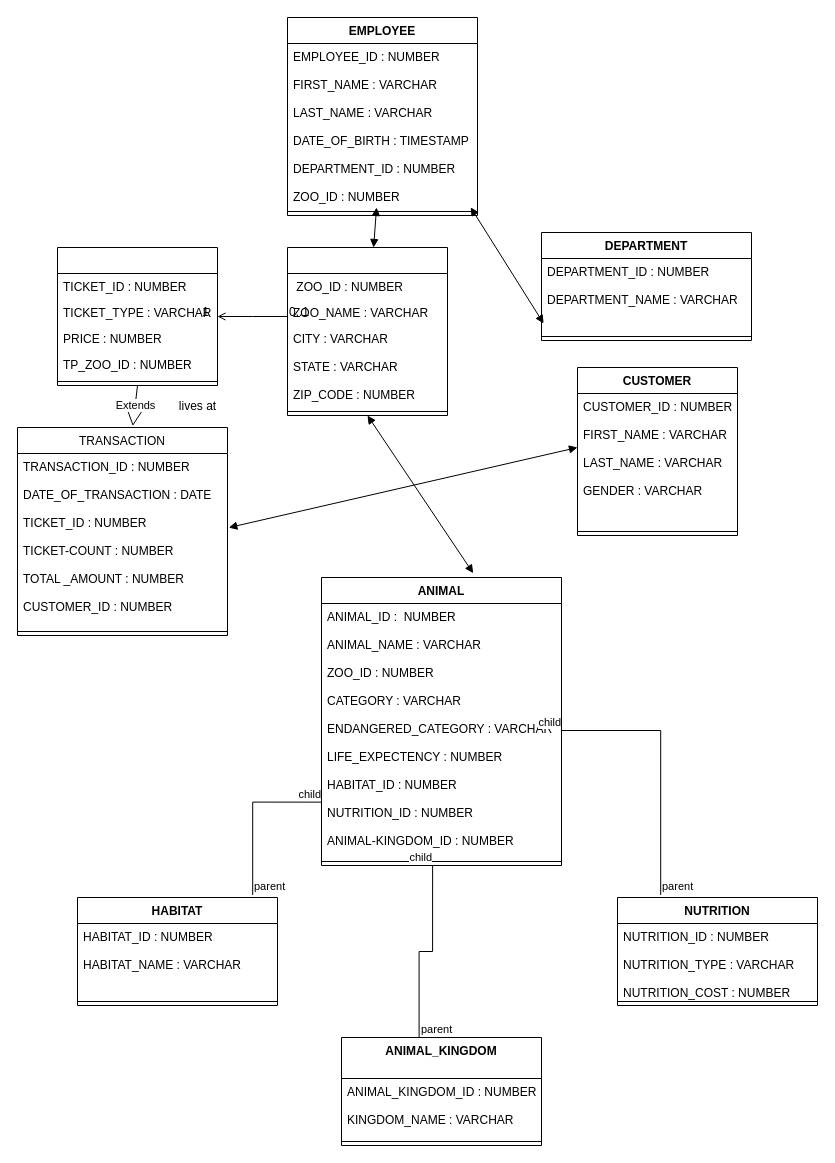
Some shapes in this 835 by 1163 pixel diagram are drawn without their labels. The box of each missing label's shape, as (x1, y1, x2, y2) in pixels:
TICKET_PRICING: (56, 246, 218, 386)
ZOO_INFO: (286, 246, 448, 416)
